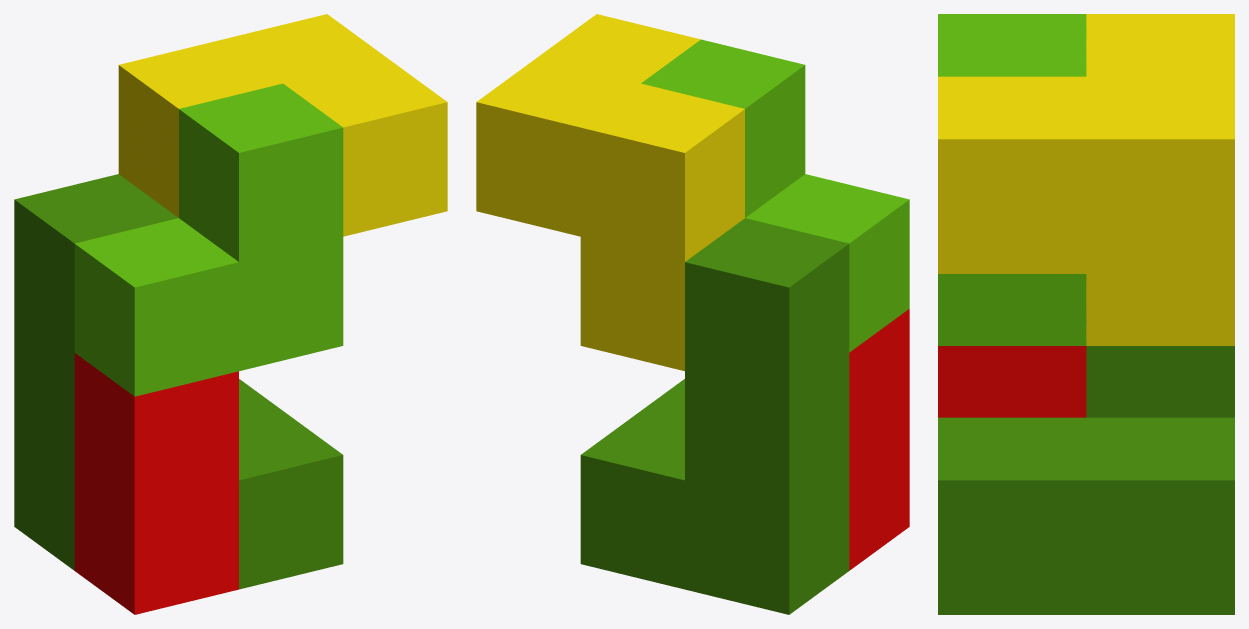
The picture shows the model from 3 angles, left to right: view 1: azimuth 30°, elevation 25°; view 2: azimuth 150°, elevation 25°; view 3: azimuth 270°, elevation 25°; orthographic projection. The views are drawn at different scales.
Parts seen in each view (by area): view 1: mergedBlocks(Clone); view 2: mergedBlocks(Clone); view 3: mergedBlocks(Clone).
Boxes of the visible parts, <box> form: mergedBlocks(Clone): <box>14,14,447,614</box>; mergedBlocks(Clone): <box>476,14,909,614</box>; mergedBlocks(Clone): <box>938,14,1234,614</box>.
Bounding box in the file's own units: 3 × 4 × 2.
Materials: 4 (4 with a texture image).
